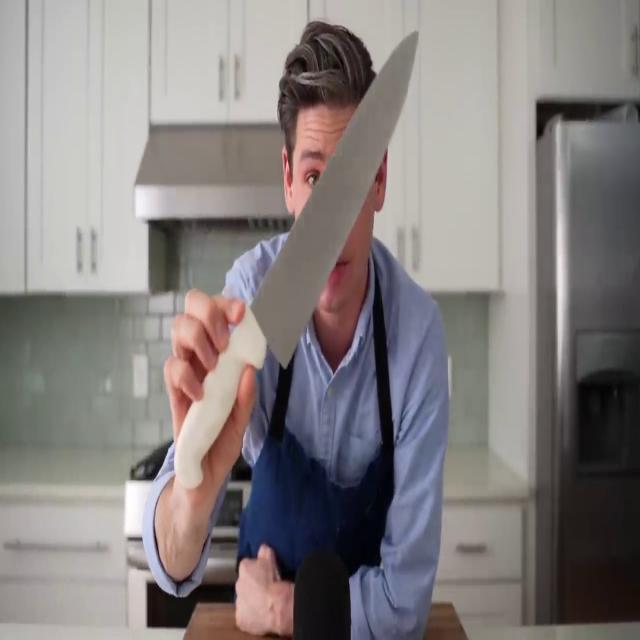Knife: (168, 18, 421, 492)
